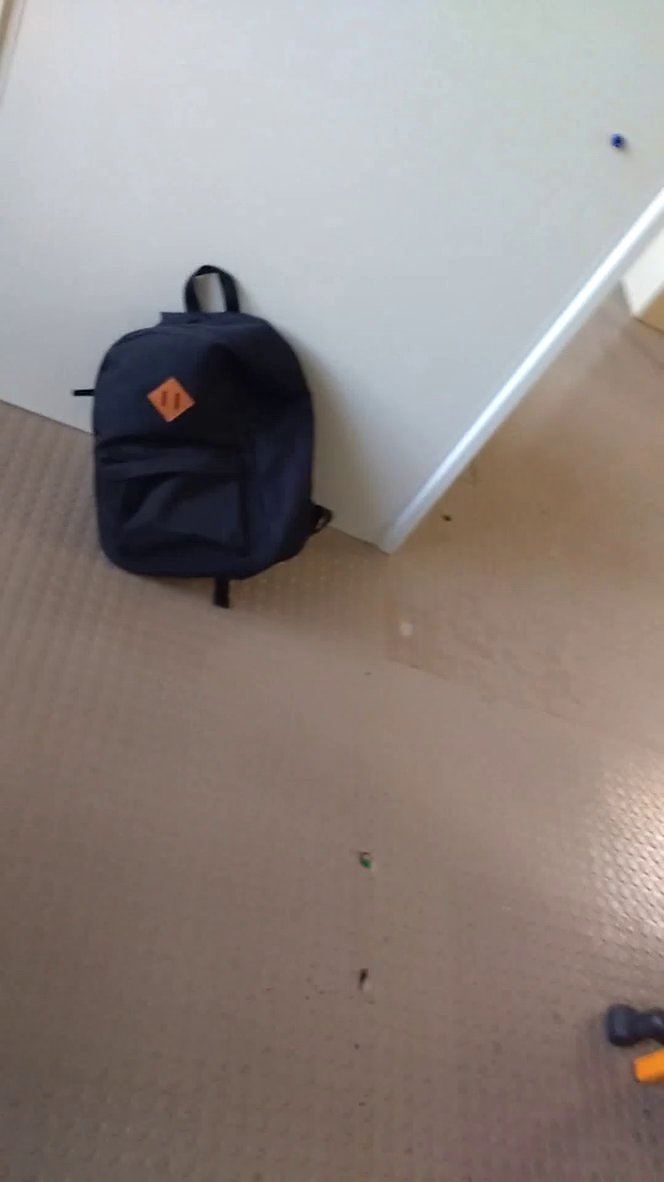bag: (58, 252, 354, 629)
